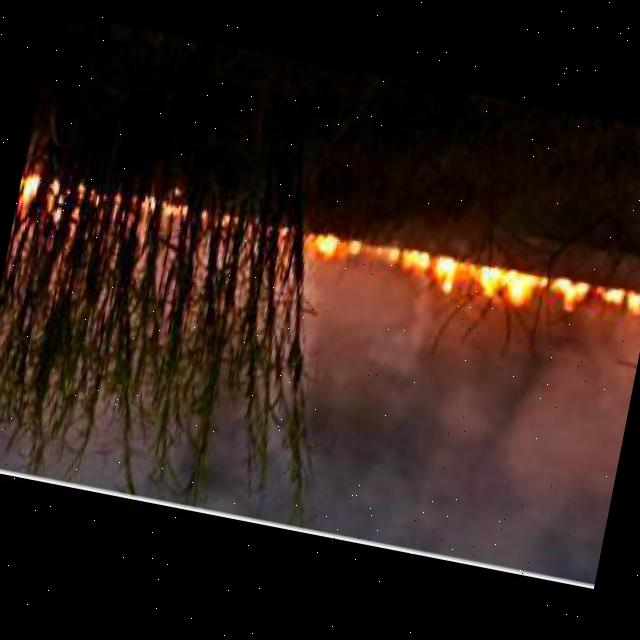fire: (306, 233, 640, 331), (14, 176, 66, 224)
